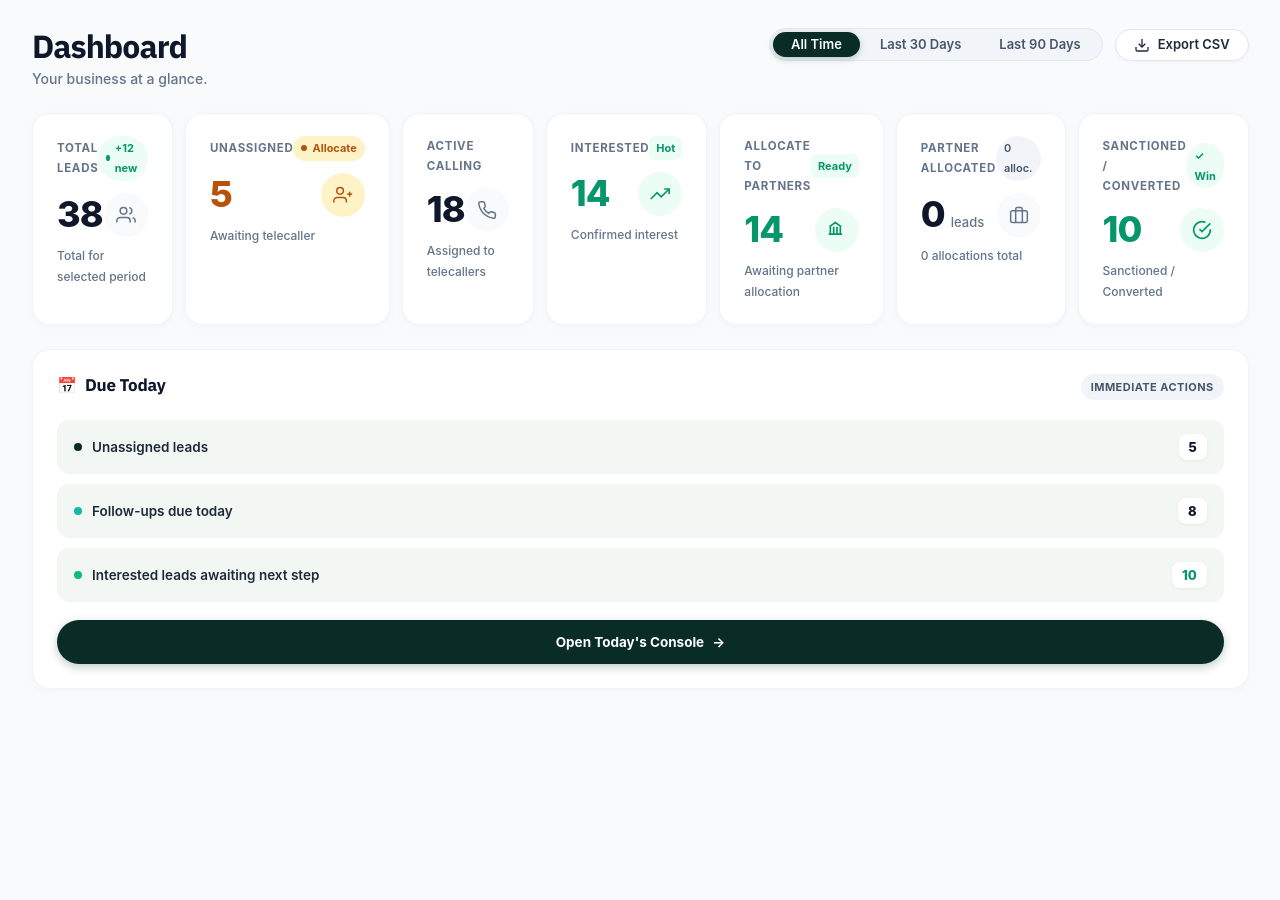
Test case: DSA OS — Clickable Dashboard & Lead Management Journey › clicking Interested KPI navigates to /cases?view=interested with matching records
Check: the 1st text "14" is shown, box left=571, top=174, right=610, bottom=214
Click the button with test id "kpi-interested".
click(627, 219)  # box left=546, top=113, right=707, bottom=325
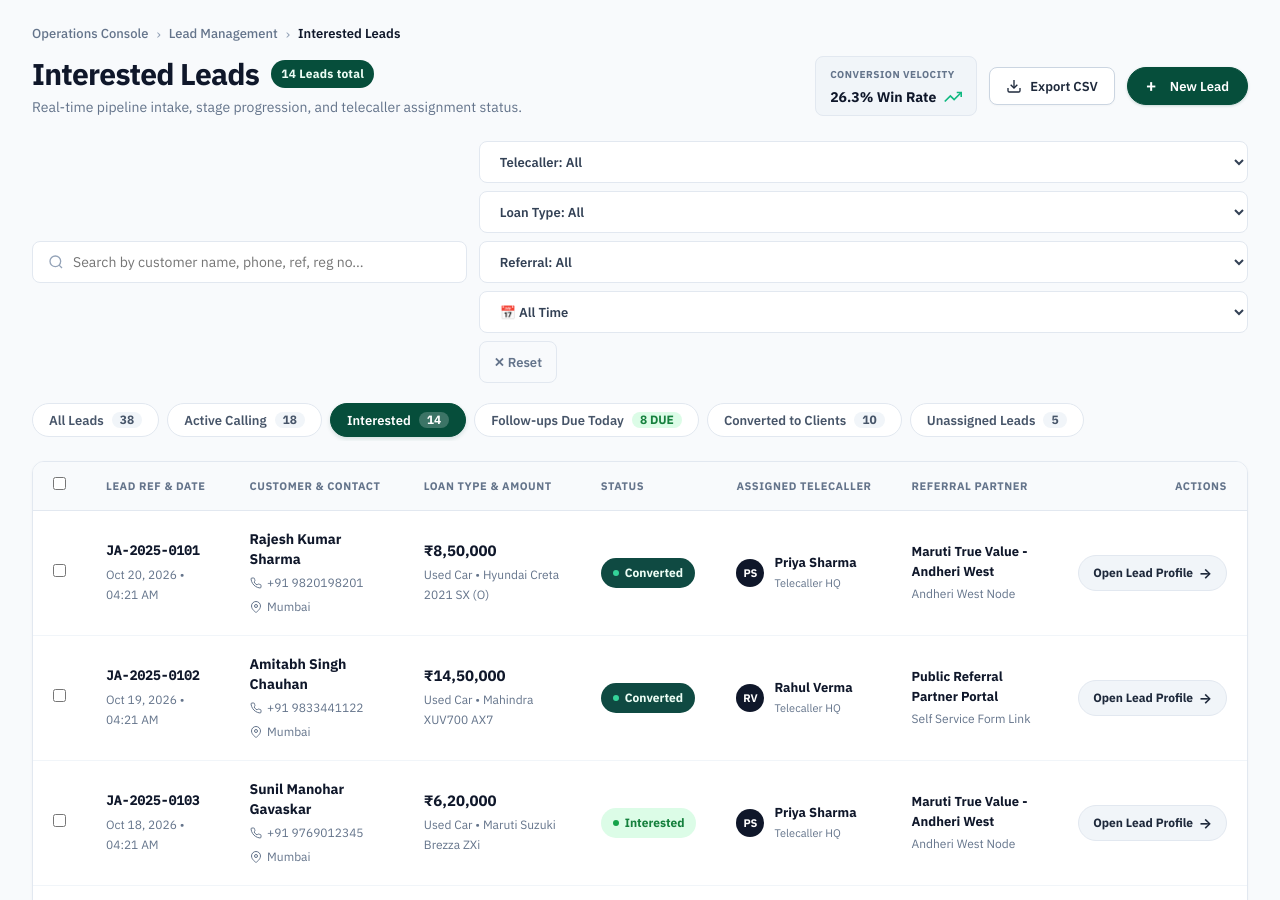
Check: the heading "Interested Leads" is shown, box left=32, top=56, right=259, bottom=92
Check: the text "14 Leads total" is shown, box left=271, top=60, right=374, bottom=88
